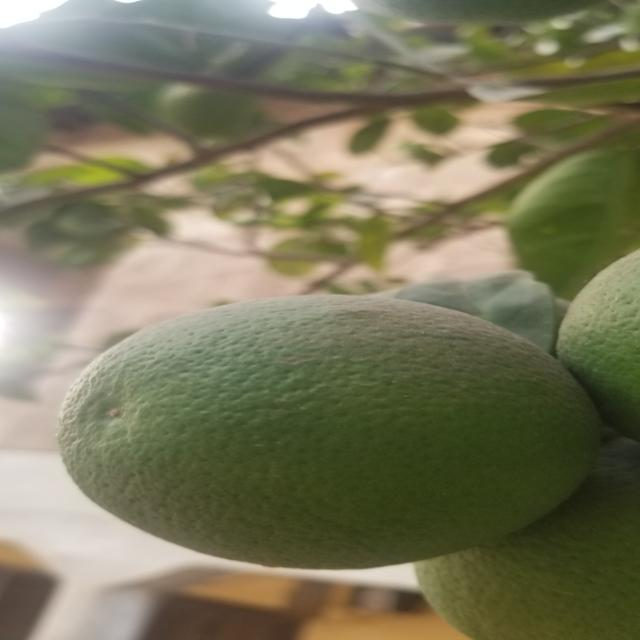Unripe: (62, 294, 571, 564), (418, 444, 630, 634), (558, 255, 637, 443)
